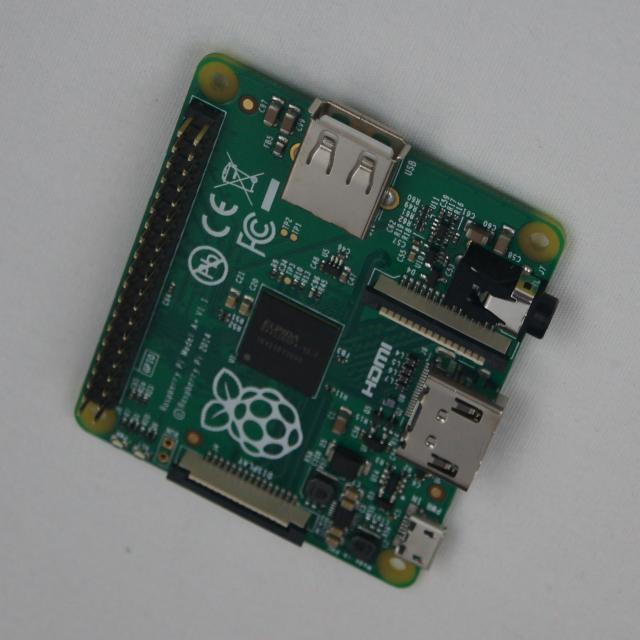Raspberry-Pi-1-A-: (76, 54, 564, 587)
